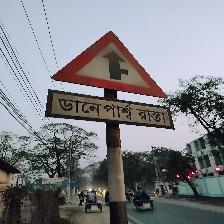Side-road-right: (47, 31, 172, 129)
